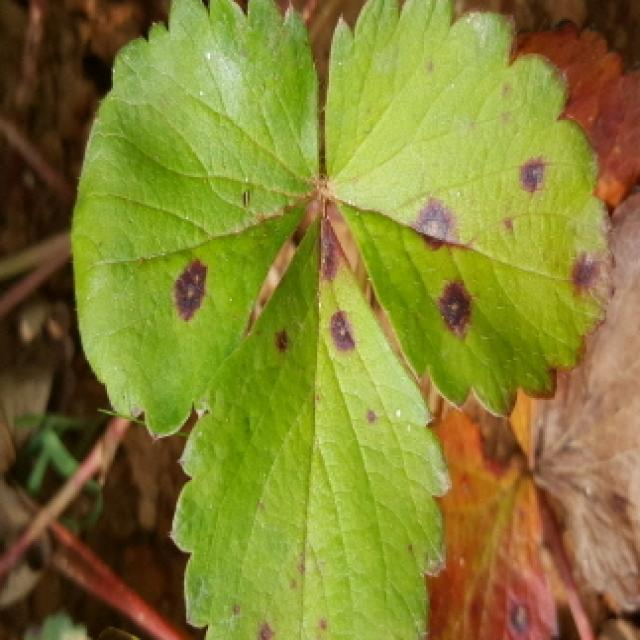Leaf Spot: (170, 198, 455, 640), (324, 0, 616, 420), (70, 0, 327, 440), (421, 371, 562, 640)
